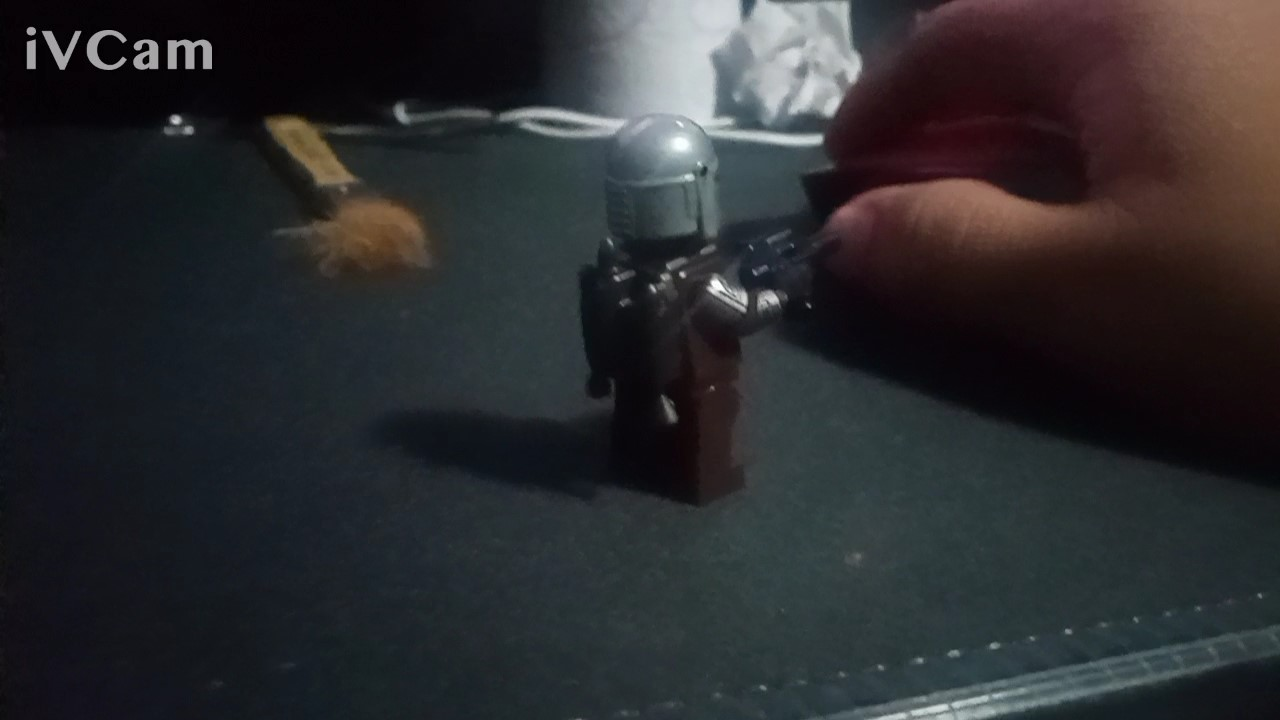mandalorian: (563, 102, 851, 499)
